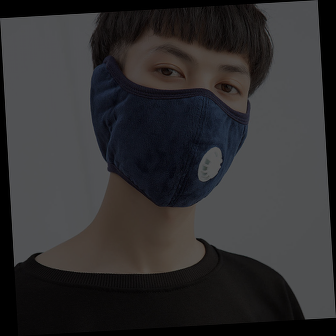with_mask: (120, 38, 253, 212)
